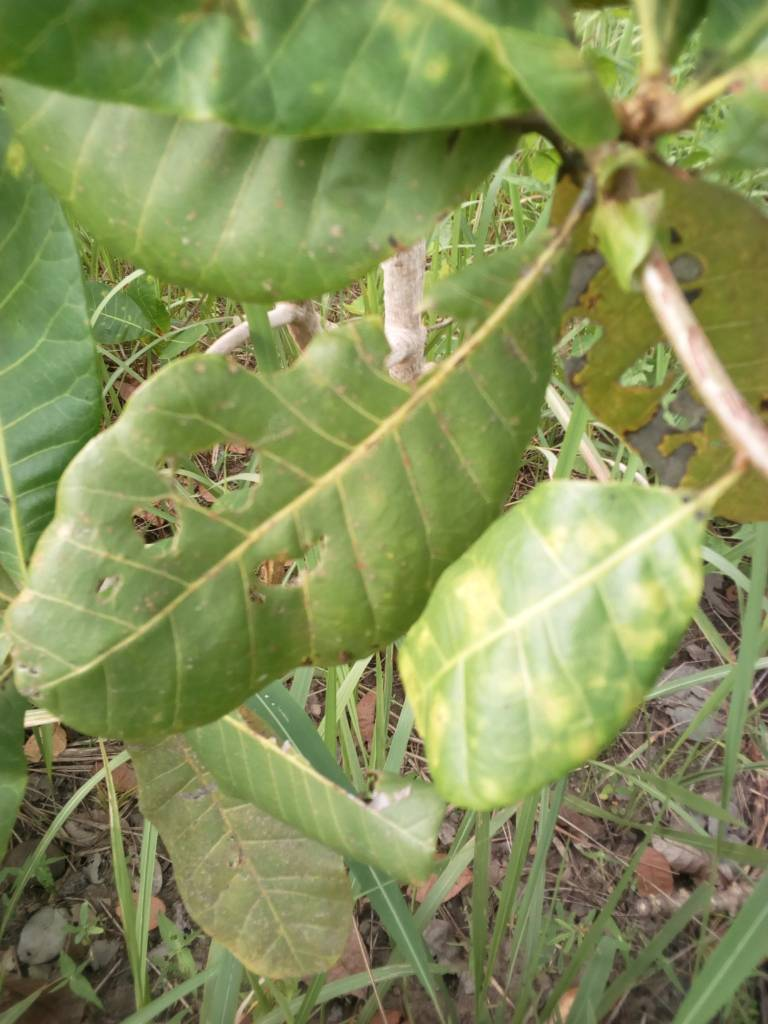Anoplonemis curvipes: (1, 219, 563, 760)
